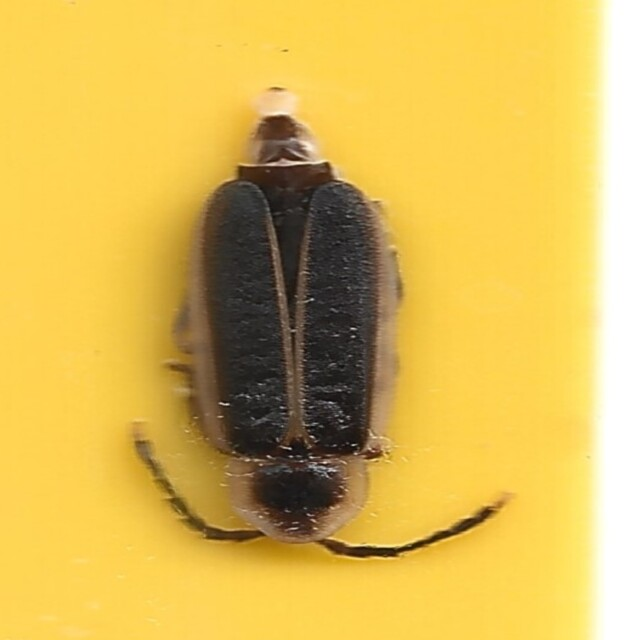Coleoptera: (121, 85, 519, 555)
